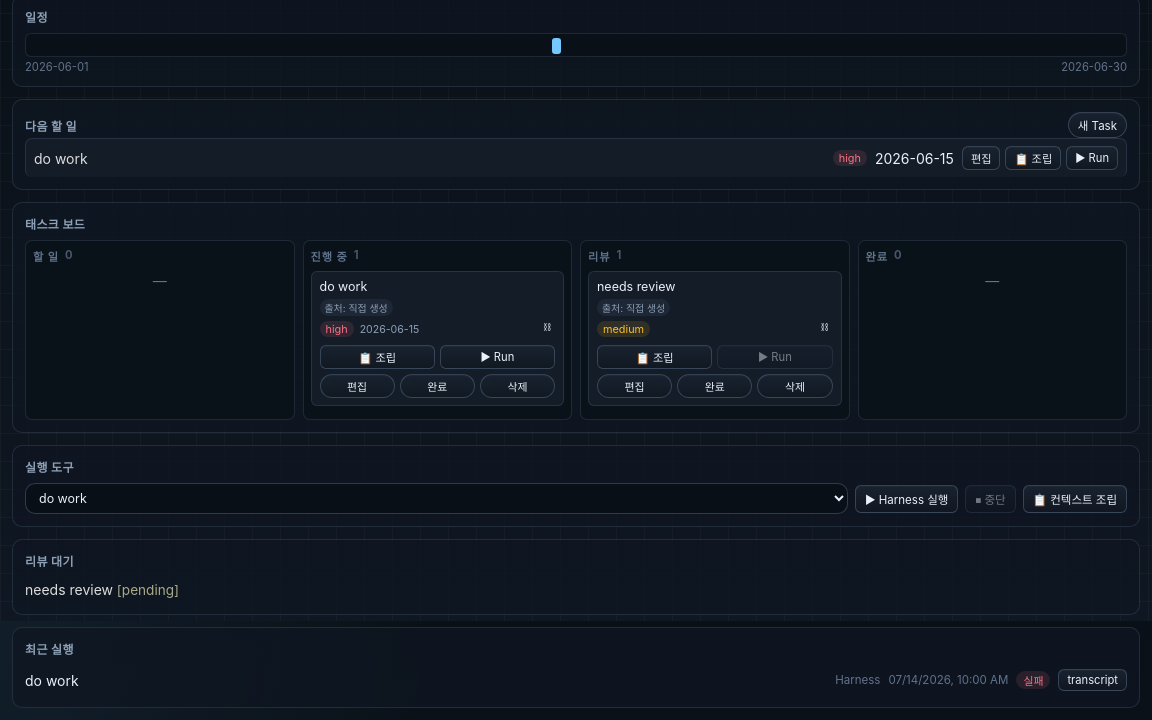
Test: PmHome › opens an available recent-run transcript from the human-readable row
The image size is (1152, 720).
(page scrolled)
Check: the text "Harness" is shown, box [835, 673, 880, 687]
Check: the text "실패" is shown, box [1016, 671, 1050, 689]
Click the button with aria-label "do work 실행 transcript 열기" at (1093, 680), box [1058, 669, 1127, 691]
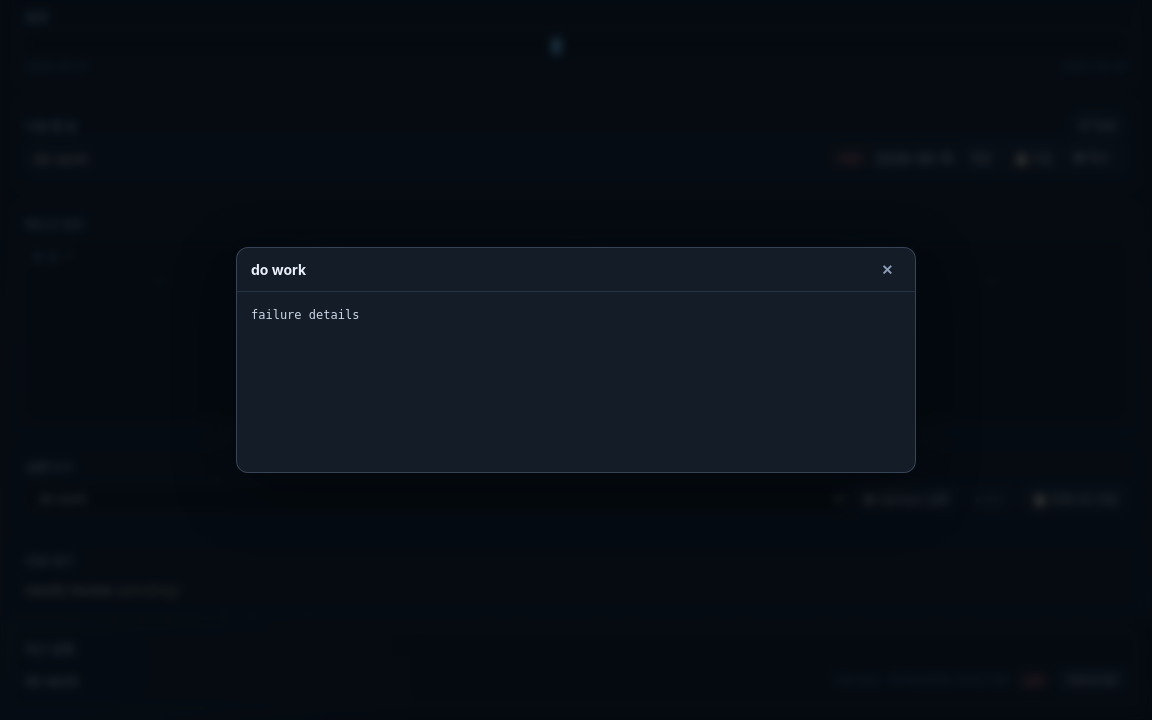
Check: the text with test id "transcript-content" reads "failure details", box [251, 308, 359, 322]
